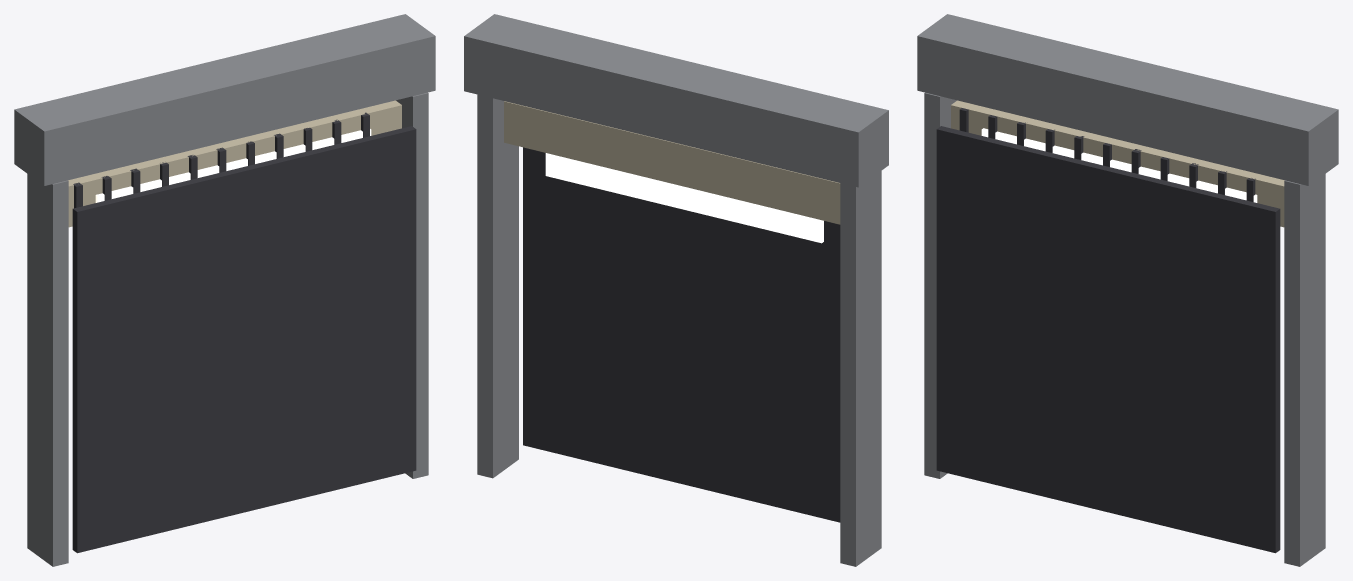
The model's file is prop_shutter_open_name.glb.
3 renders of one model, left to right at view 1: azimuth 30°, elevation 25°; view 2: azimuth 150°, elevation 25°; view 3: azimuth 330°, elevation 25°, orthographic.
Visible parts, largest first — view 1: shutter_open_name; view 2: shutter_open_name; view 3: shutter_open_name.
Part boxes in pixels (bbox=[...]): shutter_open_name: bbox=[14, 14, 435, 566]; shutter_open_name: bbox=[464, 14, 888, 566]; shutter_open_name: bbox=[917, 14, 1338, 566].
Bounding box in the file's own units: 3 × 3.2 × 0.49.
